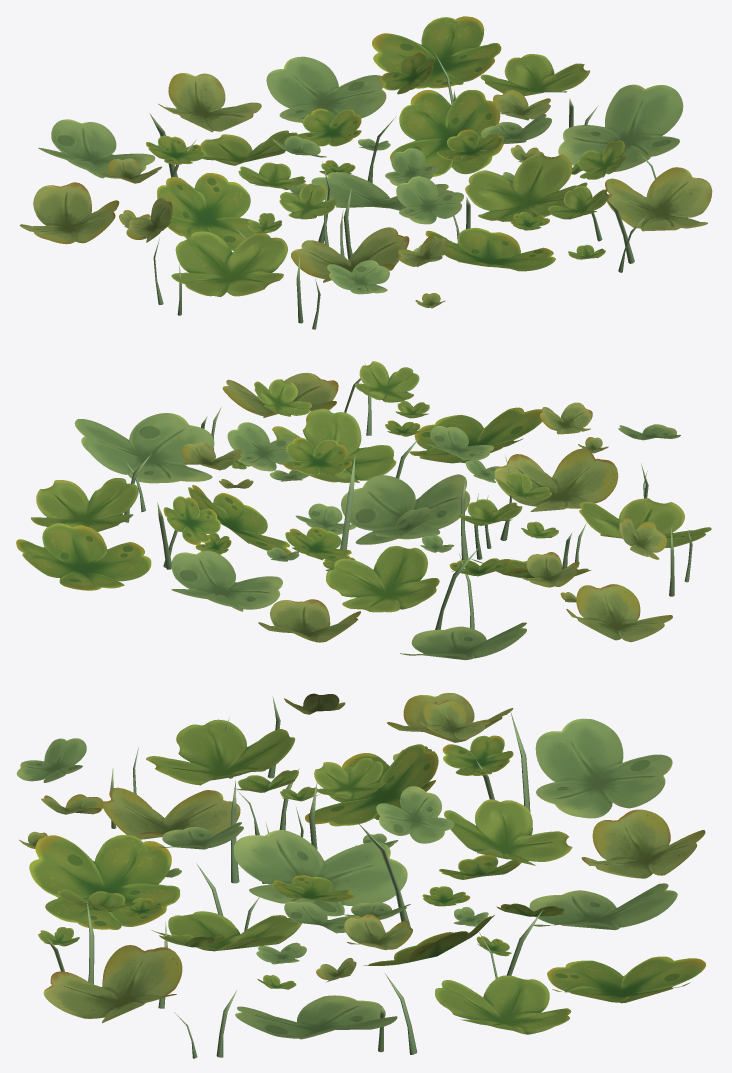
File: clover_1.fbx
3 views of the same model, one above another, from view 1: azimuth 30°, elevation 25°; view 2: azimuth 150°, elevation 25°; view 3: azimuth 270°, elevation 25° (orthographic). The views are drawn at different scales.
Visible parts, largest first — view 1: clover_1_low; view 2: clover_1_low; view 3: clover_1_low.
Boxes of the visible parts, x1,y1,x2,y2 form: clover_1_low: [19, 16, 712, 329]; clover_1_low: [16, 361, 711, 660]; clover_1_low: [16, 693, 705, 1058].
Size of the model in its own units: 198 by 30.04 by 159.
